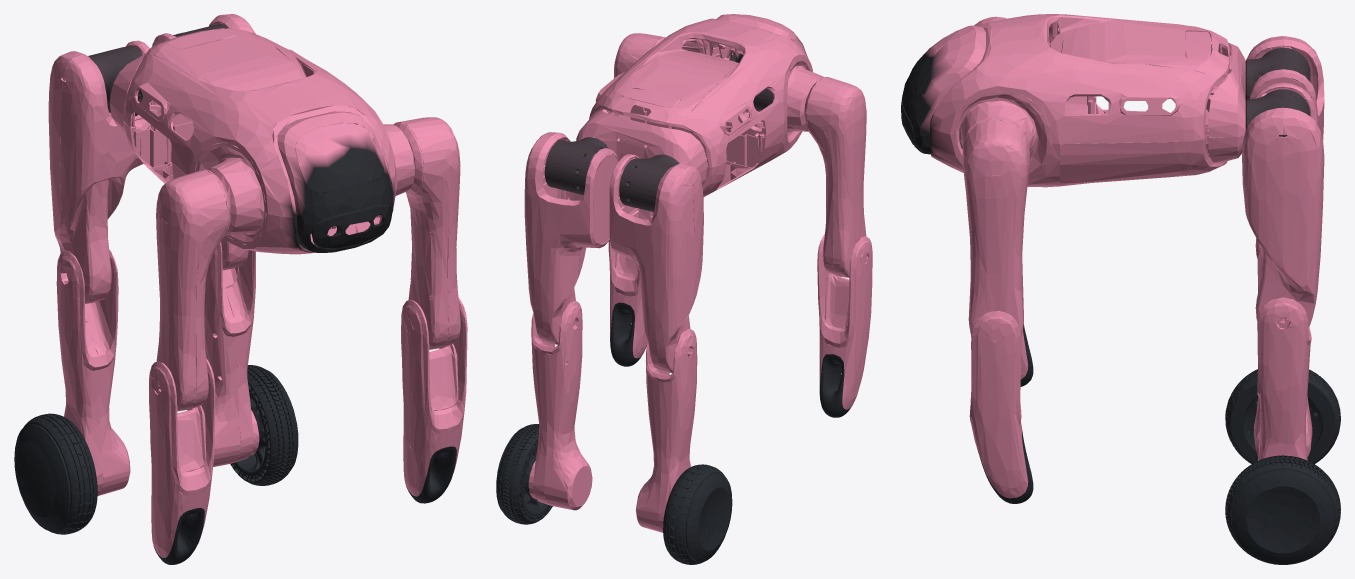
File: prime-t1.glb
The picture shows the model from 3 angles, left to right: view 1: azimuth 30°, elevation 25°; view 2: azimuth 150°, elevation 25°; view 3: azimuth 270°, elevation 25°; orthographic projection. The views are drawn at different scales.
Visible parts, largest first — view 1: BASELINK, RR_HIP_PITCH_Link, FR_HIP_PITCH_Link, RR_KNEE_Link, FL_HIP_PITCH_Link, FL_KNEE_Link, FR_KNEE_Link, RL_KNEE_Link, RR_FOOT_Link, RL_FOOT_Link, FR_FOOT_Link, FL_FOOT_Link (+2 smaller); view 2: BASELINK, RR_HIP_PITCH_Link, RL_HIP_PITCH_Link, RL_KNEE_Link, FR_HIP_PITCH_Link, RR_KNEE_Link, FR_KNEE_Link, RR_FOOT_Link, RL_FOOT_Link, RL_HIP_ROLL_Link, FL_KNEE_Link, RR_HIP_ROLL_Link (+3 smaller); view 3: BASELINK, RL_HIP_PITCH_Link, FL_HIP_PITCH_Link, RL_FOOT_Link, FL_KNEE_Link, RL_KNEE_Link, RR_FOOT_Link, RR_HIP_PITCH_Link, RR_HIP_ROLL_Link, RL_HIP_ROLL_Link, RR_KNEE_Link.
Boxes of the visible parts, box(x1,y1,x2,y2) form: BASELINK: box(109, 28, 415, 254); RR_HIP_PITCH_Link: box(48, 40, 151, 303); FR_HIP_PITCH_Link: box(156, 169, 230, 411); RR_KNEE_Link: box(56, 250, 130, 495); FL_HIP_PITCH_Link: box(393, 117, 460, 349); FL_KNEE_Link: box(401, 297, 467, 496); FR_KNEE_Link: box(149, 358, 215, 557); RL_KNEE_Link: box(204, 242, 259, 466); RR_FOOT_Link: box(14, 413, 97, 534); RL_FOOT_Link: box(230, 365, 298, 485); FR_FOOT_Link: box(152, 508, 204, 564); FL_FOOT_Link: box(406, 446, 456, 503); BASELINK: box(576, 14, 823, 196); RR_HIP_PITCH_Link: box(609, 154, 703, 372); RL_HIP_PITCH_Link: box(524, 132, 618, 344); RL_KNEE_Link: box(528, 301, 592, 510); FR_HIP_PITCH_Link: box(804, 77, 866, 277); RR_KNEE_Link: box(636, 329, 697, 532); FR_KNEE_Link: box(817, 234, 872, 409); RR_FOOT_Link: box(663, 464, 732, 564); RL_FOOT_Link: box(496, 424, 552, 524); RL_HIP_ROLL_Link: box(544, 137, 608, 195); FL_KNEE_Link: box(608, 240, 647, 358); RR_HIP_ROLL_Link: box(619, 154, 678, 211); BASELINK: box(901, 14, 1245, 187); RL_HIP_PITCH_Link: box(1242, 82, 1324, 327); FL_HIP_PITCH_Link: box(962, 119, 1029, 335); RL_FOOT_Link: box(1225, 455, 1340, 564); FL_KNEE_Link: box(969, 311, 1028, 498); RL_KNEE_Link: box(1257, 297, 1311, 460); RR_FOOT_Link: box(1225, 369, 1340, 464); RR_HIP_PITCH_Link: box(1246, 36, 1324, 259); RR_HIP_ROLL_Link: box(1245, 48, 1310, 100); RL_HIP_ROLL_Link: box(1245, 89, 1310, 136); RR_KNEE_Link: box(1253, 246, 1312, 456).
Bounding box in the file's own units: 1.23 × 2 × 1.64.
